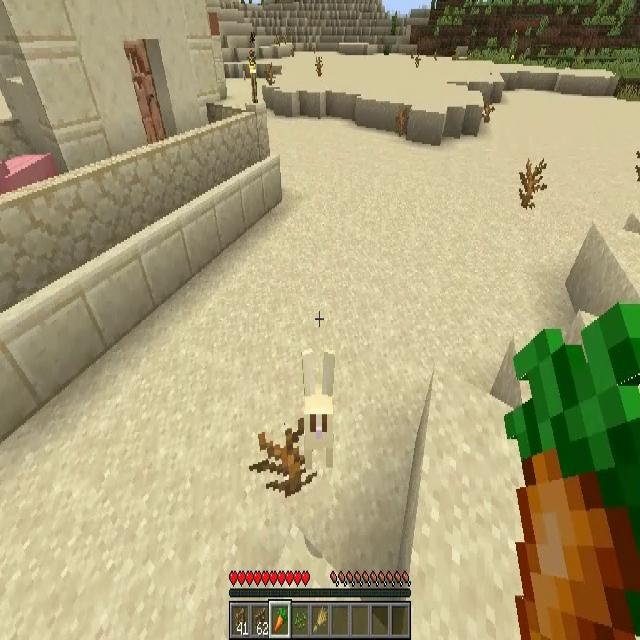rabbit: (300, 351, 336, 469)
